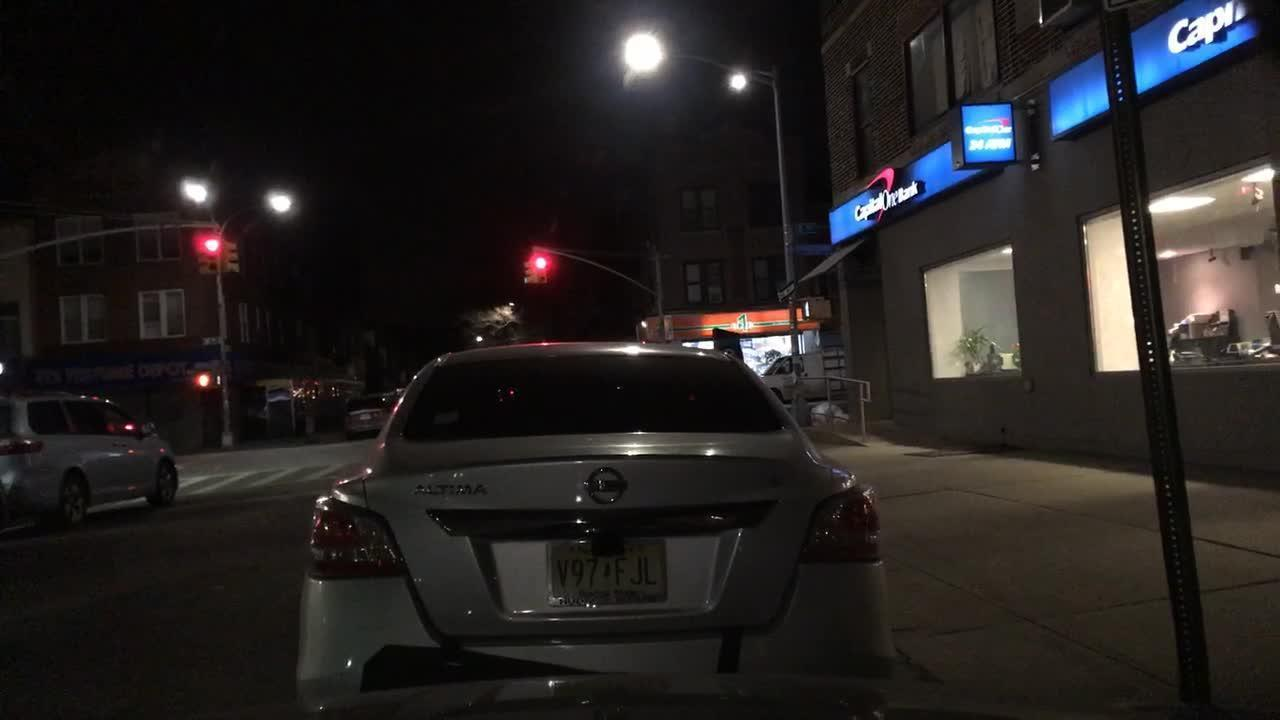Nissan: (580, 464, 639, 505)
